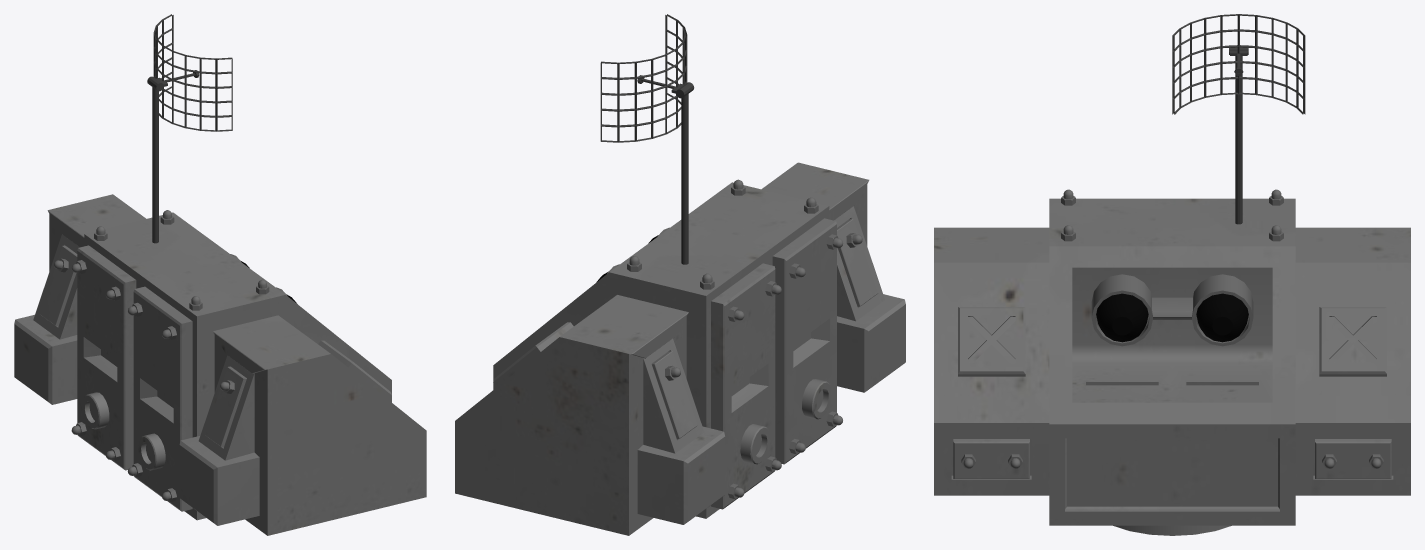
Rendered from main.fbx.
3 renders of one model, left to right at view 1: azimuth 30°, elevation 25°; view 2: azimuth 150°, elevation 25°; view 3: azimuth 270°, elevation 25°, orthographic. The views are drawn at different scales.
Visible parts, largest first — view 1: Cylinder.003; view 2: Cylinder.003; view 3: Cylinder.003.
Boxes of the visible parts, left/top/right/bottom form: Cylinder.003: left=14, top=14, right=426, bottom=535; Cylinder.003: left=455, top=14, right=905, bottom=535; Cylinder.003: left=934, top=14, right=1410, bottom=535.
Size of the model in its own units: 227 by 414 by 388.
